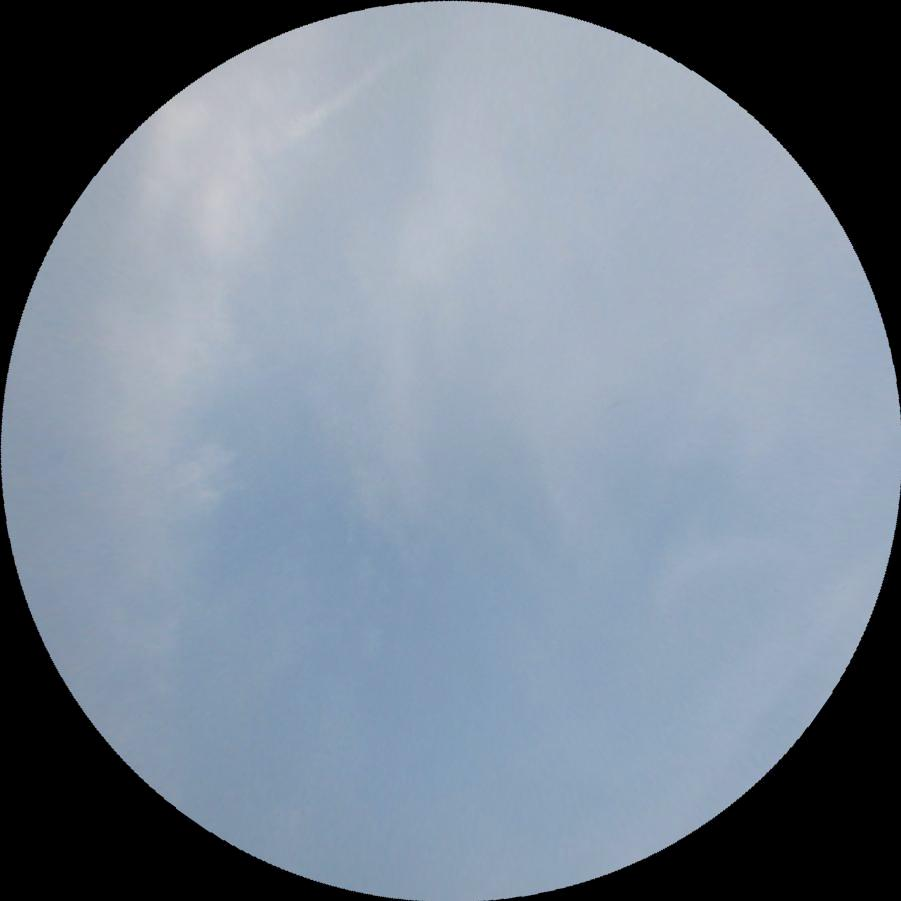contrail veryold: (274, 24, 424, 148)
